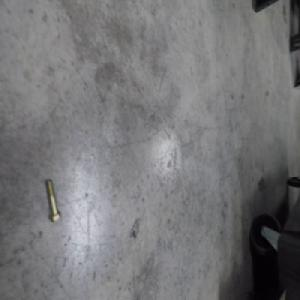Bolt: (45, 177, 62, 222)
